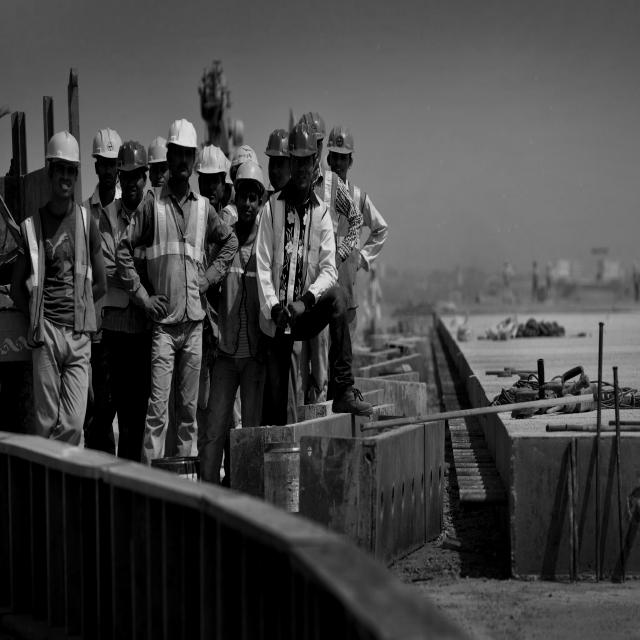hand_noglove: (120, 167, 148, 206), (52, 160, 77, 202), (172, 144, 193, 182), (144, 291, 169, 322), (238, 180, 256, 223), (96, 159, 118, 194), (293, 153, 311, 190), (266, 152, 284, 184)
head_helmet: (44, 129, 80, 166), (287, 123, 319, 160), (90, 129, 121, 159), (194, 144, 226, 173), (116, 141, 145, 168), (328, 124, 354, 153), (298, 112, 326, 138), (235, 162, 265, 185), (265, 128, 289, 156), (146, 135, 169, 161), (233, 144, 257, 162)
person: (142, 121, 211, 468), (258, 129, 332, 433), (202, 163, 270, 483), (21, 129, 91, 436), (89, 140, 152, 450), (336, 119, 388, 320), (312, 107, 357, 270), (82, 128, 121, 209), (195, 143, 233, 202), (146, 130, 172, 188)
vest: (24, 207, 92, 344), (149, 192, 208, 324), (270, 200, 324, 325), (98, 195, 146, 321), (218, 224, 266, 350), (334, 180, 364, 305), (314, 169, 340, 236)
